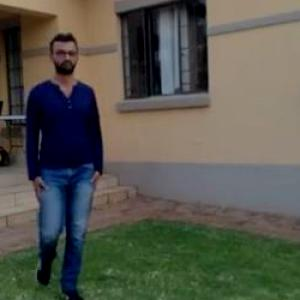follow: (28, 42, 104, 281)
